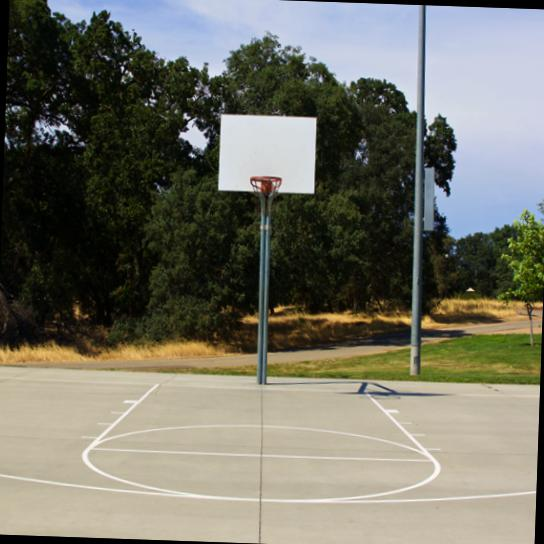basketball-hoop: (248, 173, 284, 218)
